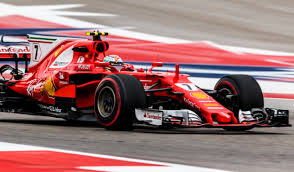f1_car: (1, 23, 294, 142)
